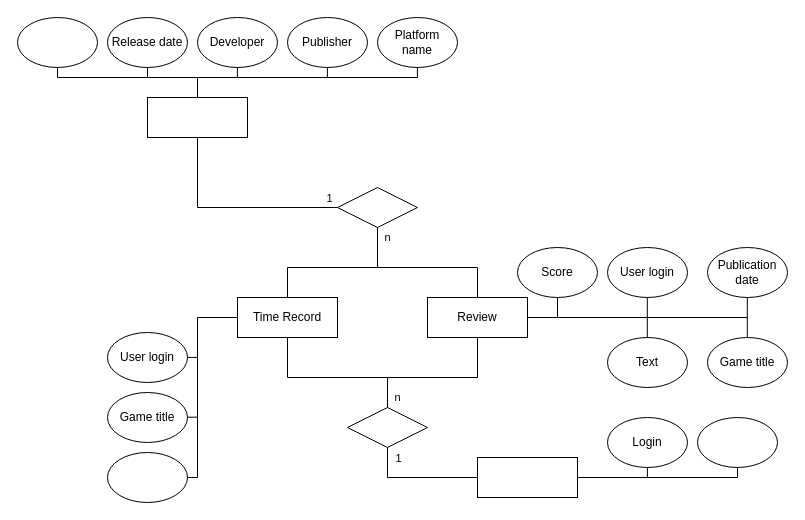
Some shapes in this 805 by 520 pixel diagram are drawn without their labels. The centre of each missing label's shape, as x and y in pixels:
"Game" goes at (197,117).
"owns" goes at (387,427).
"Password" goes at (737,442).
"rates" goes at (377,207).
"Time stamp" goes at (147,477).
"Title" goes at (57,42).
"User" goes at (527,477).
